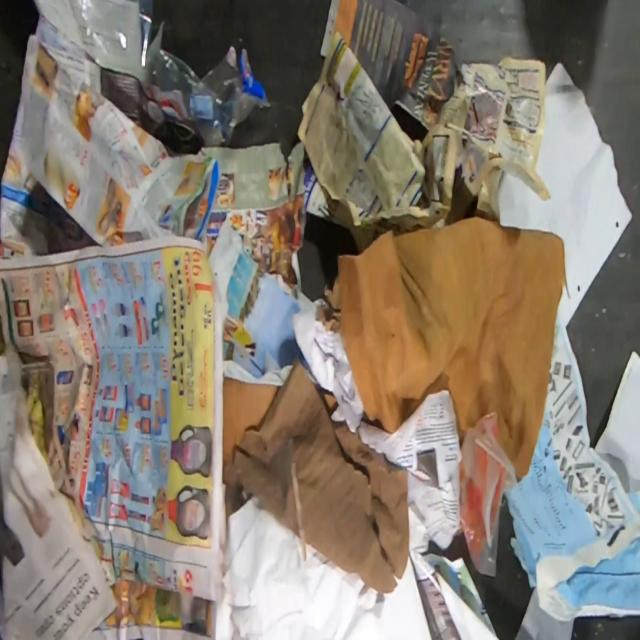cardboard: (319, 215, 566, 479), (223, 375, 277, 468)
rigid_plastic: (460, 404, 520, 576)
soft_plastic: (30, 0, 270, 148)
